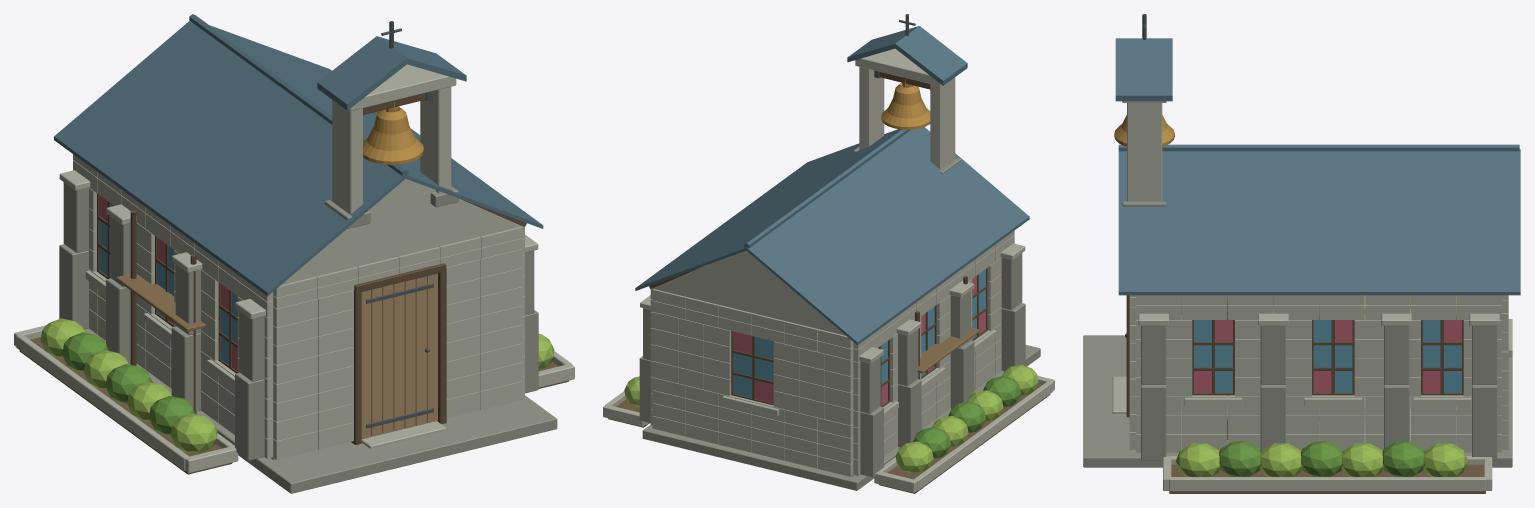
The model's file is chapel.glb.
3 renders of one model, left to right at view 1: azimuth 30°, elevation 25°; view 2: azimuth 150°, elevation 25°; view 3: azimuth 270°, elevation 25°, orthographic. The views are drawn at different scales.
Parts seen in each view (by area): view 1: FrontWallCourse_mesh, Buttresses_mesh, CloisterGarden_mesh, EntryDoor_mesh, Foundation_mesh, RoofCourse.005_mesh, RoofCourse.001_mesh, RoofCourse.004_mesh, RoofCourse.003_mesh, RoofCourse.002_mesh, Gables_mesh, BelfryFrame_mesh (+13 smaller); view 2: Buttresses_mesh, RearWallCourse.001_mesh, RearWallCourse_mesh, CloisterGarden_mesh, RoofCourse.003_mesh, RoofCourse.004_mesh, RoofCourse.005_mesh, RoofCourse.001_mesh, RoofCourse.002_mesh, Gables_mesh, BelfryFrame_mesh, RoofCourse_mesh (+12 smaller); view 3: CloisterGarden_mesh, Buttresses_mesh, SideWallCourse.003_mesh, SideWindows.001_mesh, RoofCourse.003_mesh, RoofCourse.002_mesh, SideWallCourse.004_mesh, RoofCourse.001_mesh, RoofCourse.005_mesh, RoofCourse.004_mesh, SideWallCourse.005_mesh, RoofCourse_mesh (+9 smaller).
Part boxes in pixels (x1,y1,x2,y2): FrontWallCourse_mesh: [273, 249, 522, 459]; Buttresses_mesh: [59, 170, 538, 460]; CloisterGarden_mesh: [14, 318, 574, 474]; EntryDoor_mesh: [361, 273, 437, 438]; Foundation_mesh: [84, 328, 557, 493]; RoofCourse.005_mesh: [54, 60, 543, 296]; RoofCourse.001_mesh: [144, 27, 453, 219]; RoofCourse.004_mesh: [75, 52, 522, 277]; RoofCourse.003_mesh: [97, 45, 499, 258]; RoofCourse.002_mesh: [120, 37, 476, 239]; Gables_mesh: [281, 179, 520, 284]; BelfryFrame_mesh: [324, 64, 458, 228]; Buttresses_mesh: [639, 243, 1025, 477]; RearWallCourse.001_mesh: [652, 312, 853, 425]; RearWallCourse_mesh: [652, 377, 853, 476]; CloisterGarden_mesh: [603, 364, 1054, 493]; RoofCourse.003_mesh: [670, 143, 994, 314]; RoofCourse.004_mesh: [652, 149, 1011, 330]; RoofCourse.005_mesh: [635, 155, 1029, 345]; RoofCourse.001_mesh: [707, 129, 956, 282]; RoofCourse.002_mesh: [689, 145, 972, 299]; Gables_mesh: [653, 250, 845, 335]; BelfryFrame_mesh: [853, 48, 961, 174]; RoofCourse_mesh: [726, 127, 930, 267]; CloisterGarden_mesh: [1163, 295, 1492, 493]; Buttresses_mesh: [1138, 295, 1499, 460]; SideWallCourse.003_mesh: [1136, 395, 1501, 452]; SideWindows.001_mesh: [1184, 315, 1471, 406]; RoofCourse.003_mesh: [1118, 219, 1520, 246]; RoofCourse.002_mesh: [1118, 195, 1520, 223]; SideWallCourse.004_mesh: [1136, 315, 1501, 396]; RoofCourse.001_mesh: [1118, 171, 1520, 199]; RoofCourse.005_mesh: [1118, 268, 1520, 295]; RoofCourse.004_mesh: [1118, 243, 1520, 270]; SideWallCourse.005_mesh: [1136, 295, 1501, 319]; RoofCourse_mesh: [1118, 149, 1520, 173].
Size of the model in its own units: 6 by 6.14 by 6.21.
